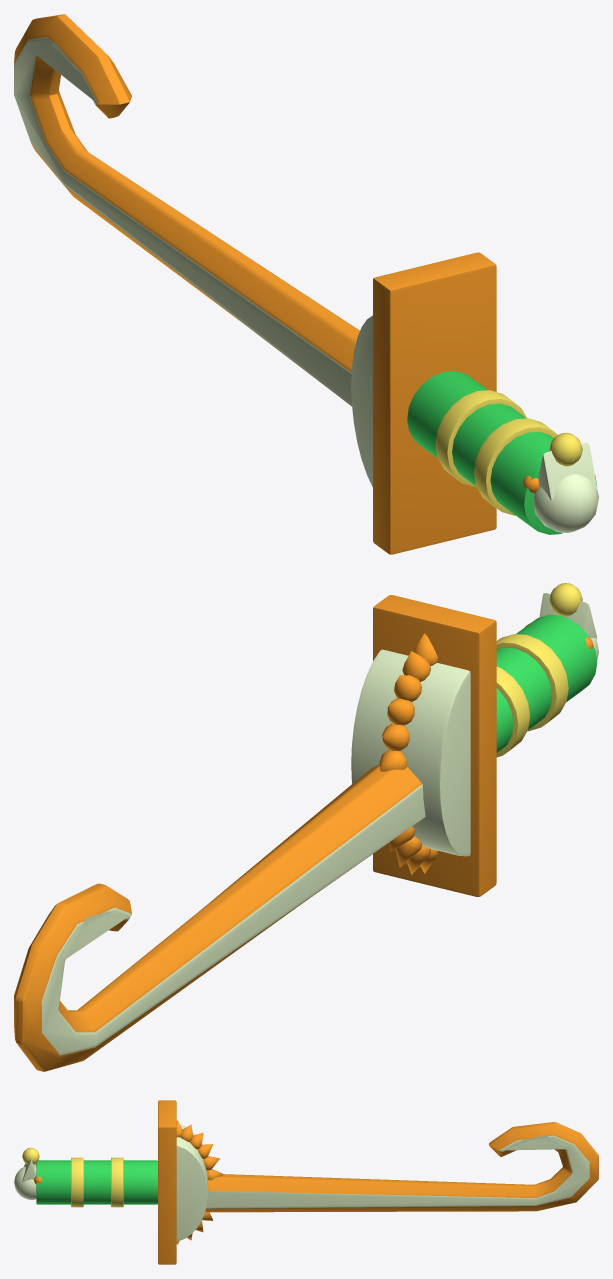
Rendered from Sword_HedgehogHooksword.glb.
The picture shows the model from 3 angles, top to bottom: view 1: azimuth 30°, elevation 25°; view 2: azimuth 150°, elevation 25°; view 3: azimuth 270°, elevation 25°; orthographic projection. The views are drawn at different scales.
Parts seen in each view (by area): view 1: Sword_HedgehogHooksword; view 2: Sword_HedgehogHooksword; view 3: Sword_HedgehogHooksword.
Boxes of the visible parts, <box> form: Sword_HedgehogHooksword: <box>14,14,598,554</box>; Sword_HedgehogHooksword: <box>14,583,598,1071</box>; Sword_HedgehogHooksword: <box>14,1100,598,1264</box>.
Bounding box in the file's own units: 0.11 × 0.26 × 1.
Materials: 1 (1 with a texture image).
